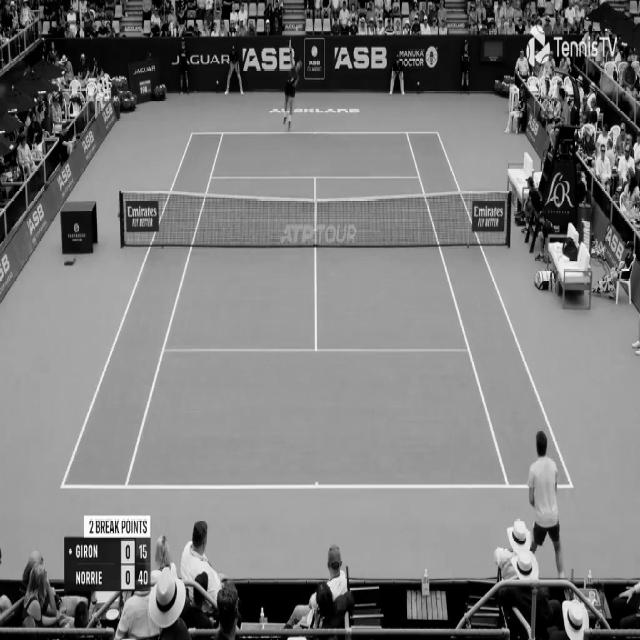tennis-court: (60, 131, 573, 488)
